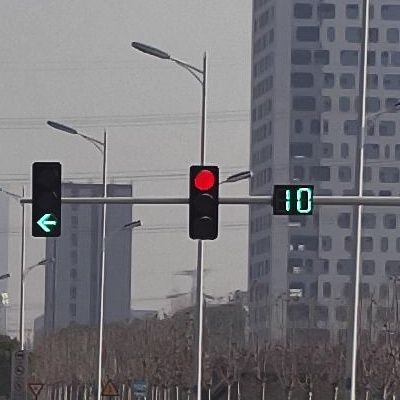green_arrow_left: (32, 160, 61, 237)
red_circle: (191, 166, 217, 238)
